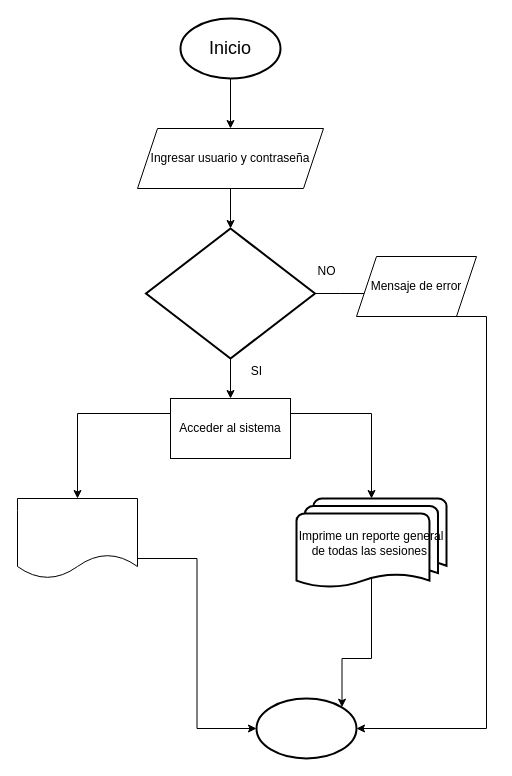
Image size: 512x776. Some labels were removed from this diagram. The box of each missing label's shape, as (x1, y1, x2, y2) in pixels:
Fin: (255, 697, 357, 759)
Imprime un reporte de seccion iniciada: (16, 498, 138, 578)
¿Ususario y contraseña correctos?: (144, 227, 316, 359)
